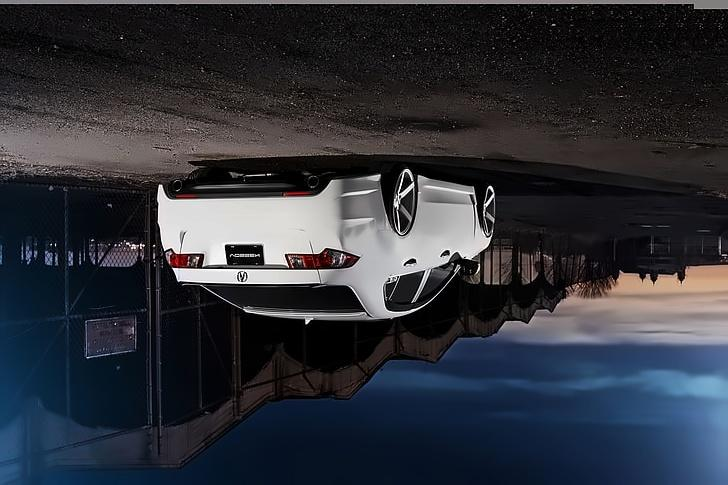Car boot: (175, 219, 336, 323)
Fender - -R-L-: (332, 172, 420, 326)
Headlight - -L-: (284, 248, 362, 270)
Headlight - -R-: (164, 247, 205, 272)
Passenger-s door - -F-L-: (411, 165, 481, 319)
Passenger-s door - -R-L-: (375, 166, 435, 323)
Rear bumper: (150, 155, 384, 227)
Side bumper - -L-: (413, 171, 488, 212)
Side mirror - -L-: (452, 253, 480, 281)
